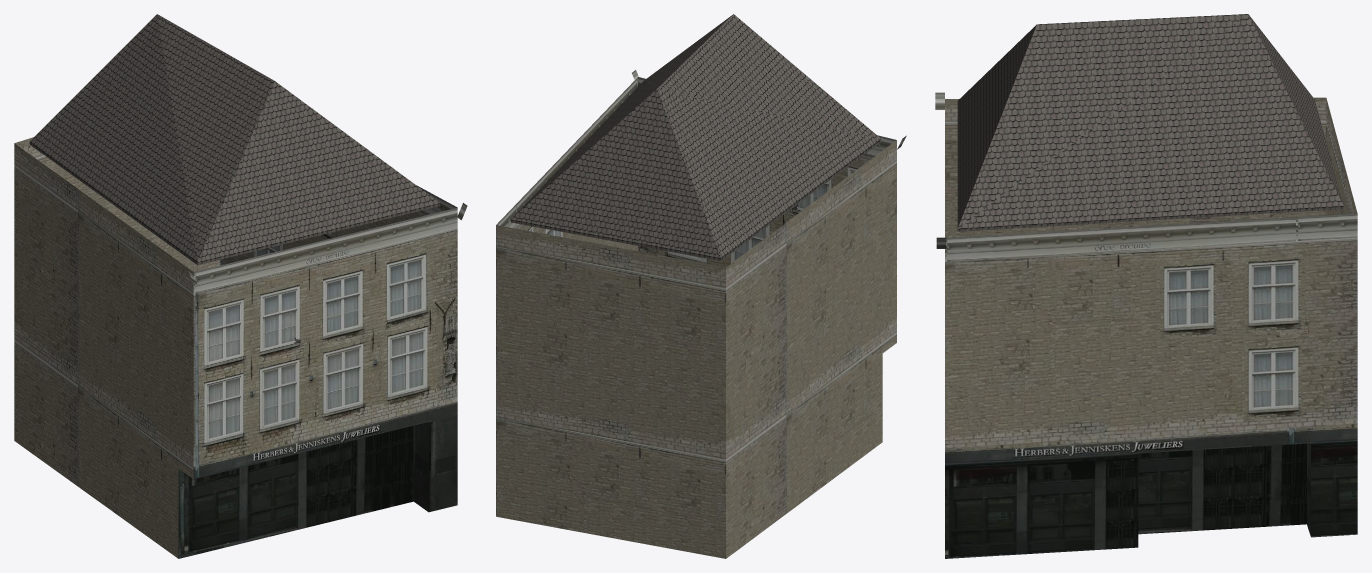
Rendered from euroB_18.glb.
3 renders of one model, left to right at view 1: azimuth 30°, elevation 25°; view 2: azimuth 150°, elevation 25°; view 3: azimuth 270°, elevation 25°, orthographic. The views are drawn at different scales.
Parts seen in each view (by area): view 1: geometry_8, geometry_1, geometry_2, geometry_0; view 2: geometry_1, geometry_2, geometry_8; view 3: geometry_1, geometry_2, geometry_8, geometry_5.
Part boxes in pixels (x1,y1,x2,y2): geometry_8: (193, 185, 457, 512); geometry_1: (14, 137, 428, 558); geometry_2: (29, 14, 440, 265); geometry_0: (178, 425, 413, 558); geometry_1: (496, 140, 896, 558); geometry_2: (510, 14, 881, 260); geometry_8: (496, 77, 896, 267); geometry_1: (945, 97, 1357, 448); geometry_2: (957, 14, 1343, 231); geometry_8: (945, 213, 1357, 558); geometry_5: (1160, 257, 1301, 420).
Size of the model in its own units: 10.38 by 15.35 by 12.74.
6 materials, 6 textured.
